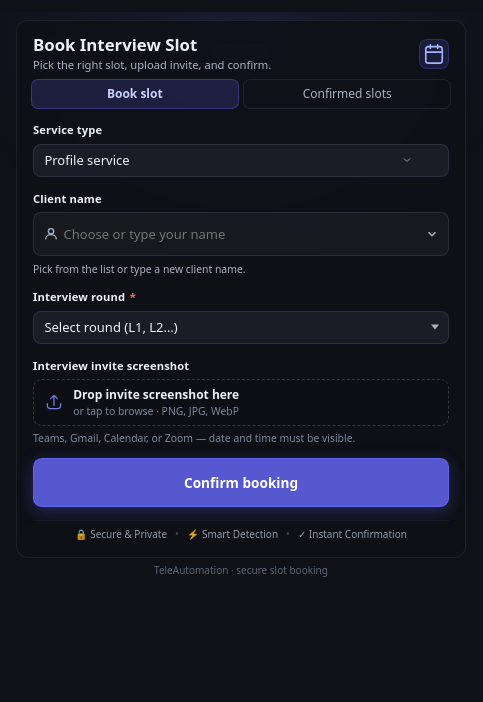
one error, in one place › shows exactly one warning, not one per empty field
The image size is (483, 702).
Click the button "Profile service". click: (87, 160)
box: [33,144,449,177]
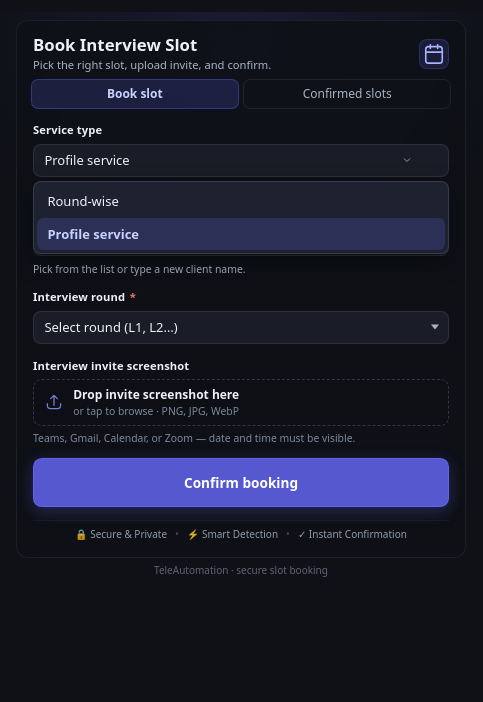
Click the list item "Round-wise". click: (83, 201)
box: [47,192,119,210]
(page scrolled)
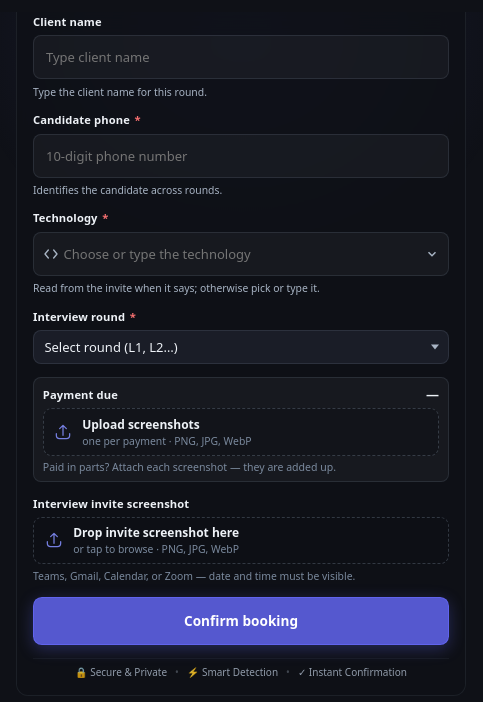
Click the button "Confirm booking". click: (241, 621)
box: [33,597,449,645]
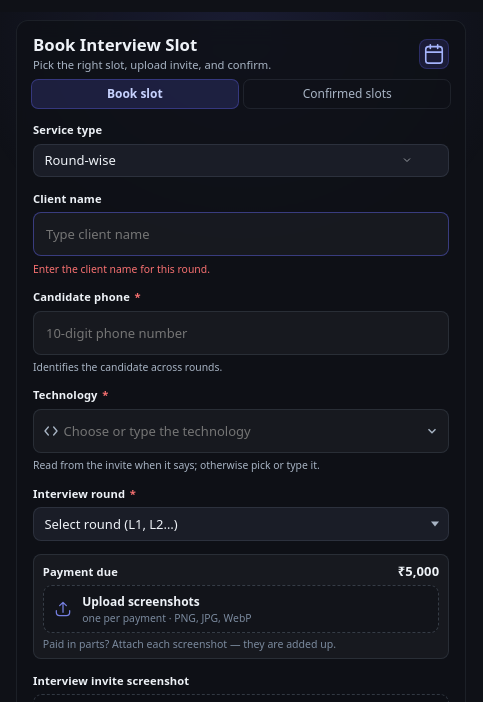
Expected: the message with class "sbs-hint--warn" reads "Enter the client name for this round.", [33,262,210,276]
